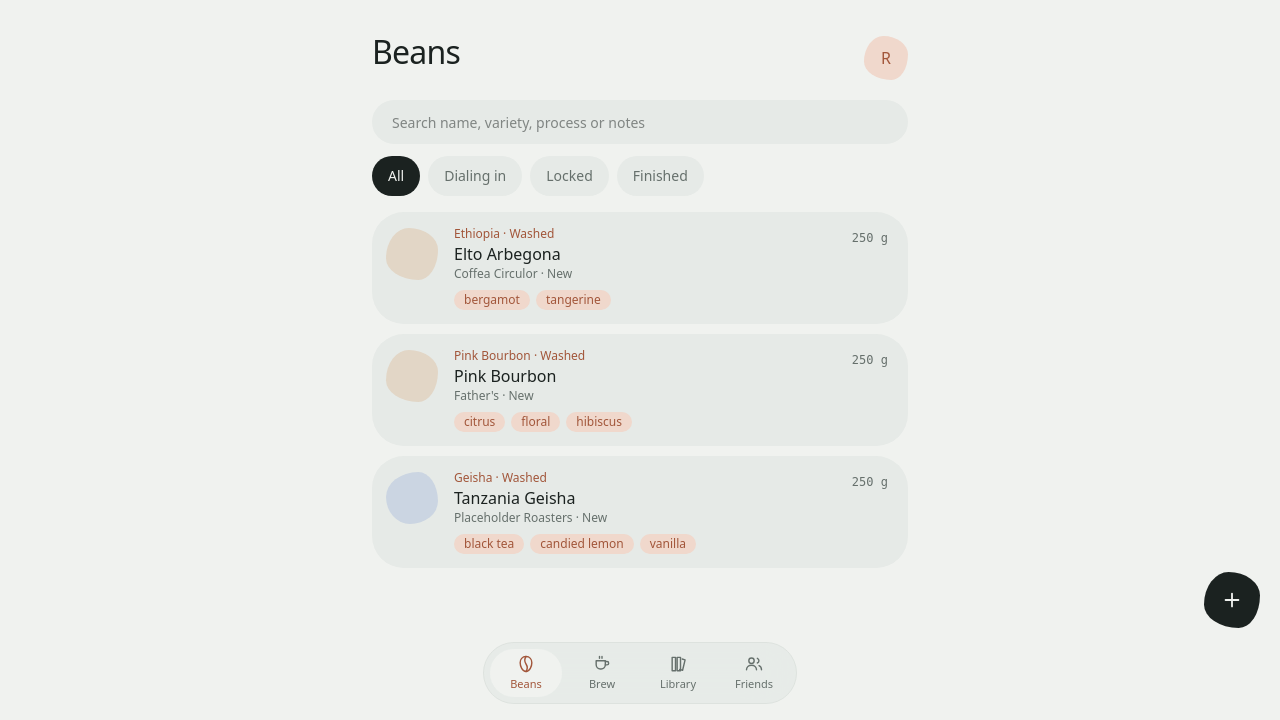
Test: Beans search › finds a tasting note, even one past the three shown
Type "bergamot" into the search field named "Search your beans" at (640, 122), box 372,100 -> 908,144
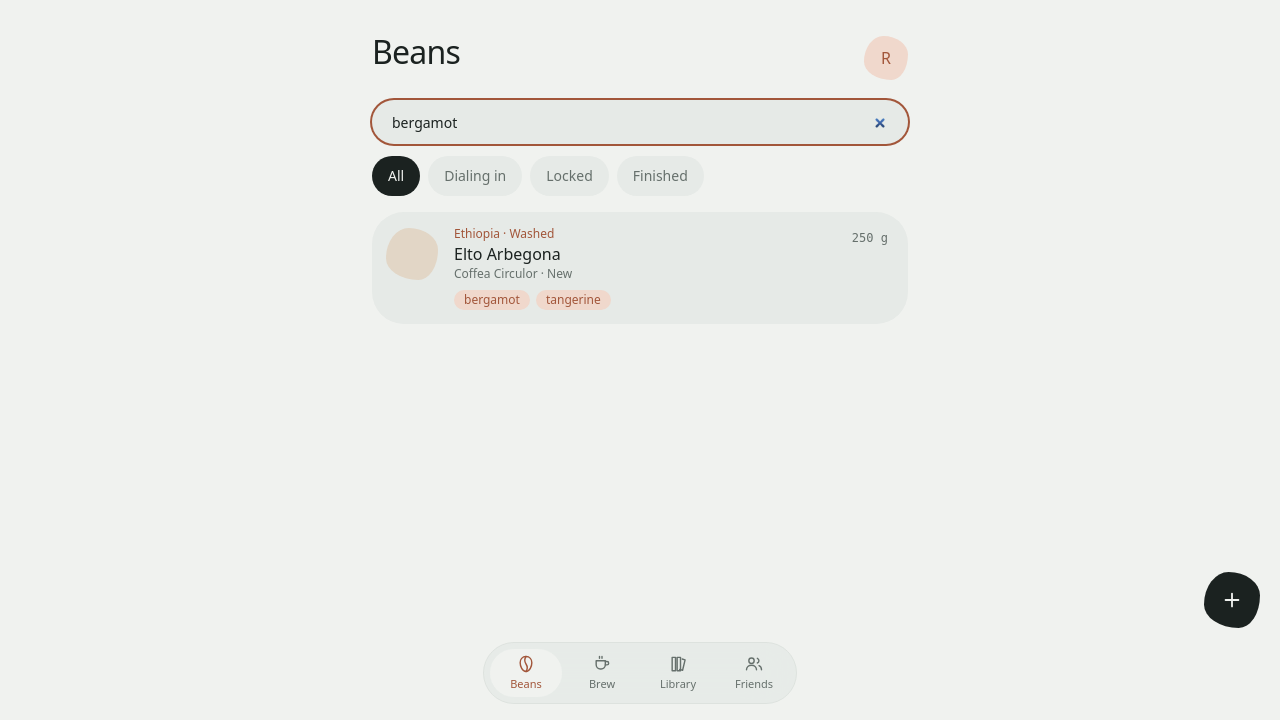
Expected: the text "Elto Arbegona" is shown, 454,243 -> 561,265
Result: the link "Tanzania Geisha" is gone
